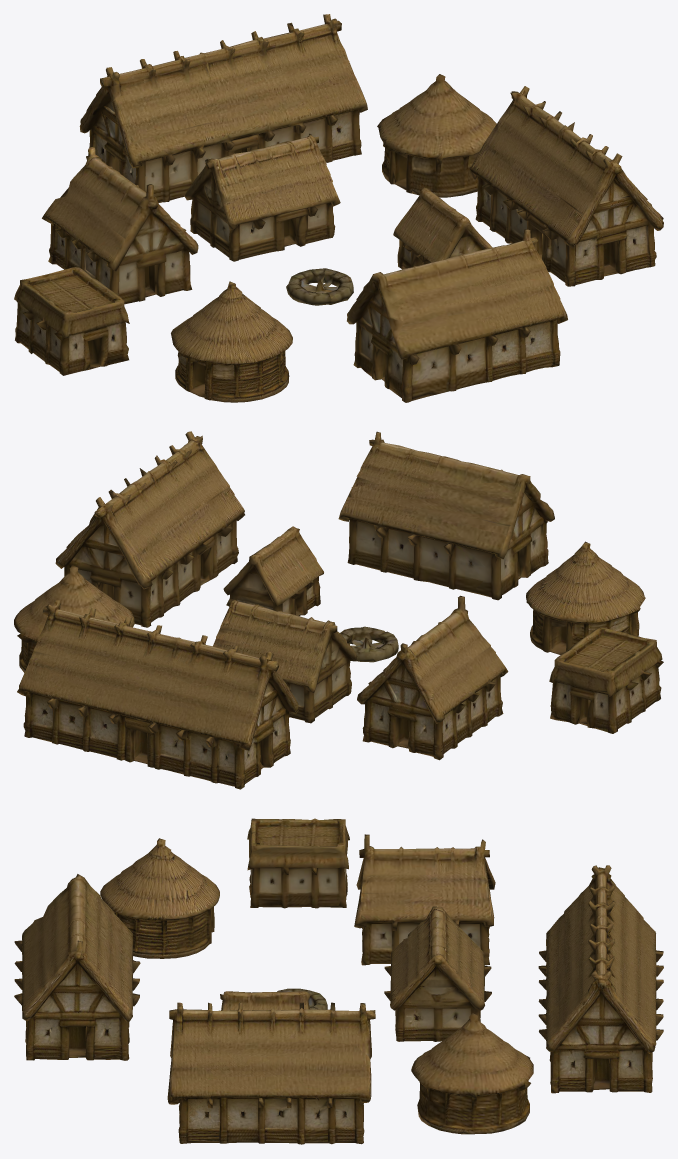
The model's file is Ancient Village (Western).fbx.
The picture shows the model from 3 angles, top to bottom: view 1: azimuth 30°, elevation 25°; view 2: azimuth 150°, elevation 25°; view 3: azimuth 270°, elevation 25°; orthographic projection. The views are drawn at different scales.
Parts seen in each view (by area): view 1: tripo_node_dba311e8; view 2: tripo_node_dba311e8; view 3: tripo_node_dba311e8.
Part boxes in pixels (box(x1,y1,x2,y2)): tripo_node_dba311e8: box(14, 14, 663, 402); tripo_node_dba311e8: box(14, 431, 663, 789); tripo_node_dba311e8: box(14, 818, 663, 1144).
Size of the model in its own units: 1 by 0.2049 by 0.9902.
